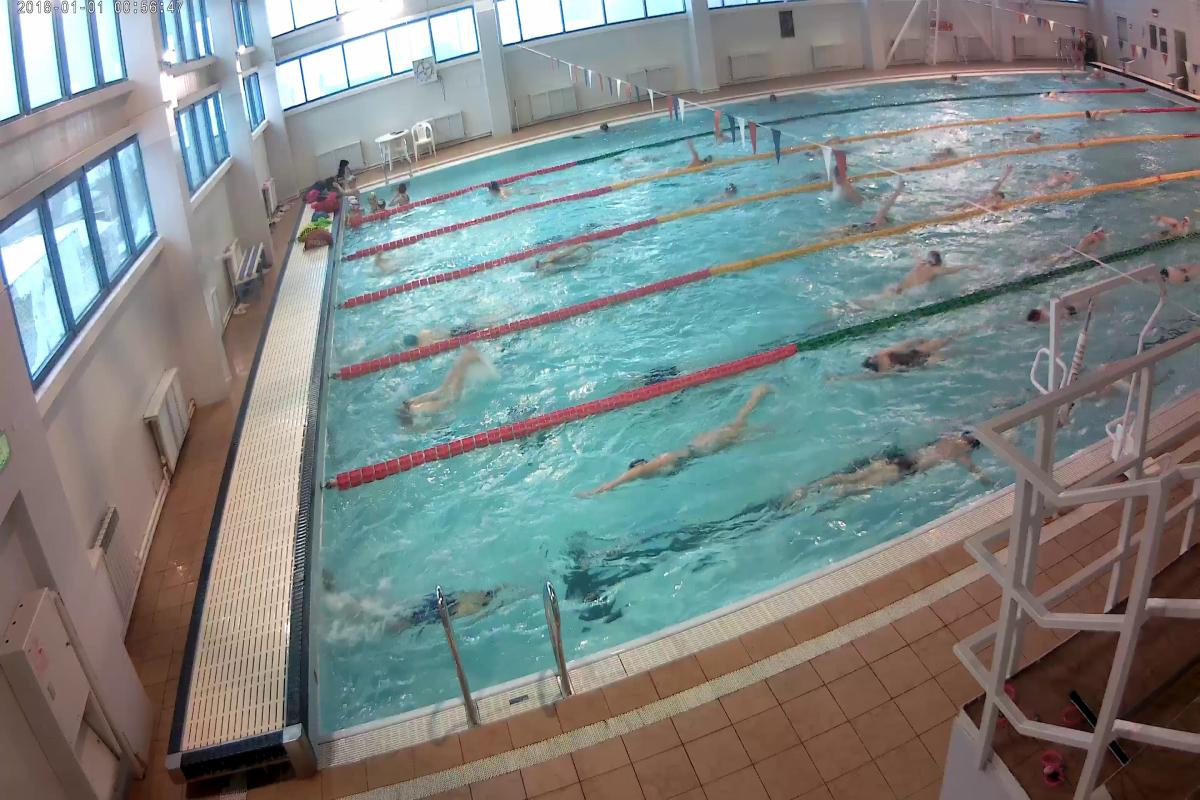swimmer: (589, 403, 760, 487), (814, 427, 970, 509), (358, 578, 501, 638), (391, 356, 482, 438), (847, 327, 955, 379), (868, 248, 959, 300), (833, 193, 899, 233), (527, 241, 600, 277), (405, 310, 472, 349), (1058, 220, 1107, 263), (972, 159, 1013, 210), (483, 173, 542, 202), (1036, 164, 1080, 192), (678, 140, 712, 172), (1014, 124, 1048, 149), (703, 184, 744, 202)
